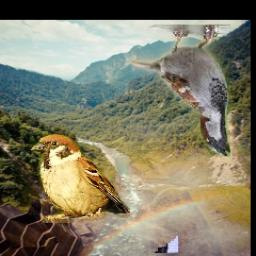Crow: (138, 155, 177, 253)
Sparrow: (130, 25, 229, 157), (30, 132, 130, 223)
